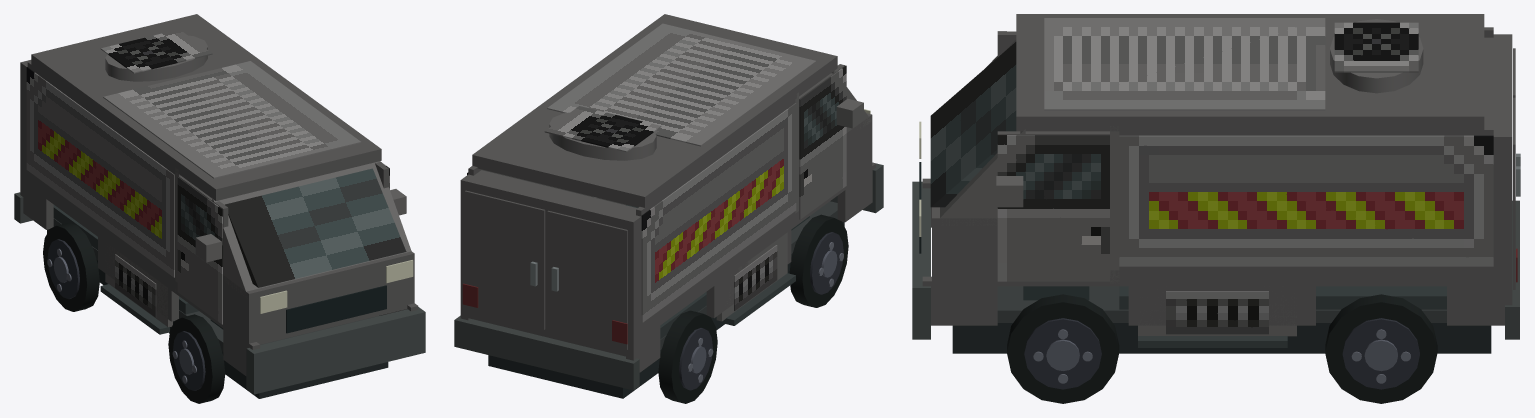
File: CMU3DRMCPropVehicleBoxVanMaintWhiteF.glb
3 renders of one model, left to right at view 1: azimuth 30°, elevation 25°; view 2: azimuth 150°, elevation 25°; view 3: azimuth 270°, elevation 25°, orthographic. The views are drawn at different scales.
Visible parts, largest first — view 1: original roof panel, original cargo side -1, roof slab, continuous sloping windshield, front bumper, front cab lower, original cab door -1, front glazing surround, original stationary fan, tire 2 -1, tire 1 -1, upper wheel rail -1 (+18 smaller); view 2: original cargo side -1, original roof panel, roof slab, rear door panel 1, rear door panel -1, rear closure, rear bumper, original cab door -1, original stationary fan, tire 2 -1, upper wheel rail -1, tire 1 -1 (+16 smaller); view 3: original cargo side 1, original roof panel, roof slab, original cab door 1, continuous sloping windshield, upper wheel rail 1, rear closure, ladder chassis, tire 2 1, tire 1 1, cargo side shell 1, lower skirt 1 1 (+22 smaller).
Part boxes in pixels (left/top/right/bottom): original roof panel: left=103, top=61, right=361, bottom=178; original cargo side -1: left=26, top=67, right=174, bottom=277; roof slab: left=31, top=14, right=381, bottom=200; continuous sloping windshield: left=225, top=168, right=406, bottom=287; front bumper: left=246, top=307, right=425, bottom=394; front cab lower: left=216, top=251, right=414, bottom=345; original cab door -1: left=177, top=177, right=222, bottom=324; front glazing surround: left=212, top=161, right=411, bottom=298; original stationary fan: left=100, top=29, right=212, bottom=73; tire 2 -1: left=43, top=222, right=99, bottom=311; tire 1 -1: left=168, top=314, right=225, bottom=403; upper wheel rail -1: left=24, top=170, right=256, bottom=346; original cargo side -1: left=641, top=103, right=796, bottom=322; original roof panel: left=547, top=23, right=816, bottom=146; roof slab: left=472, top=14, right=837, bottom=208; rear door panel 1: left=464, top=190, right=545, bottom=329; rear door panel -1: left=547, top=210, right=627, bottom=350; rear closure: left=460, top=170, right=648, bottom=357; rear bumper: left=454, top=315, right=639, bottom=390; original cab door -1: left=799, top=65, right=846, bottom=219; original stationary fan: left=544, top=106, right=661, bottom=152; tire 2 -1: left=658, top=310, right=717, bottom=403; upper wheel rail -1: left=637, top=158, right=872, bottom=341; tire 1 -1: left=789, top=214, right=848, bottom=307; original cargo side 1: left=1119, top=135, right=1493, bottom=266; original roof panel: left=1044, top=18, right=1325, bottom=110; roof slab: left=1016, top=14, right=1484, bottom=131; original cab door 1: left=997, top=135, right=1109, bottom=281; continuous sloping windshield: left=930, top=42, right=1016, bottom=207; upper wheel rail 1: left=932, top=270, right=1502, bottom=286; rear closure: left=1475, top=34, right=1512, bottom=302; ladder chassis: left=952, top=323, right=1491, bottom=353; tire 2 1: left=1325, top=294, right=1437, bottom=403; tire 1 1: left=1007, top=294, right=1119, bottom=403; cargo side shell 1: left=1119, top=126, right=1493, bottom=275; lower skirt 1 1: left=1128, top=281, right=1315, bottom=325.
Size of the model in its own units: 0.98 by 1.11 by 2.03.
Materials: 26 (6 with a texture image).
